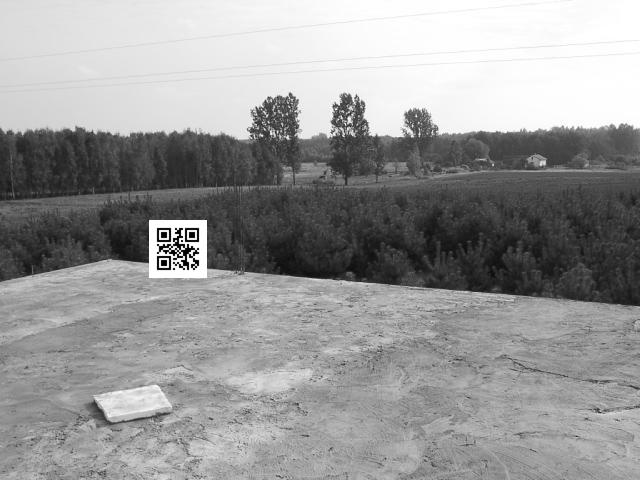qr_code: (149, 219, 206, 277)
